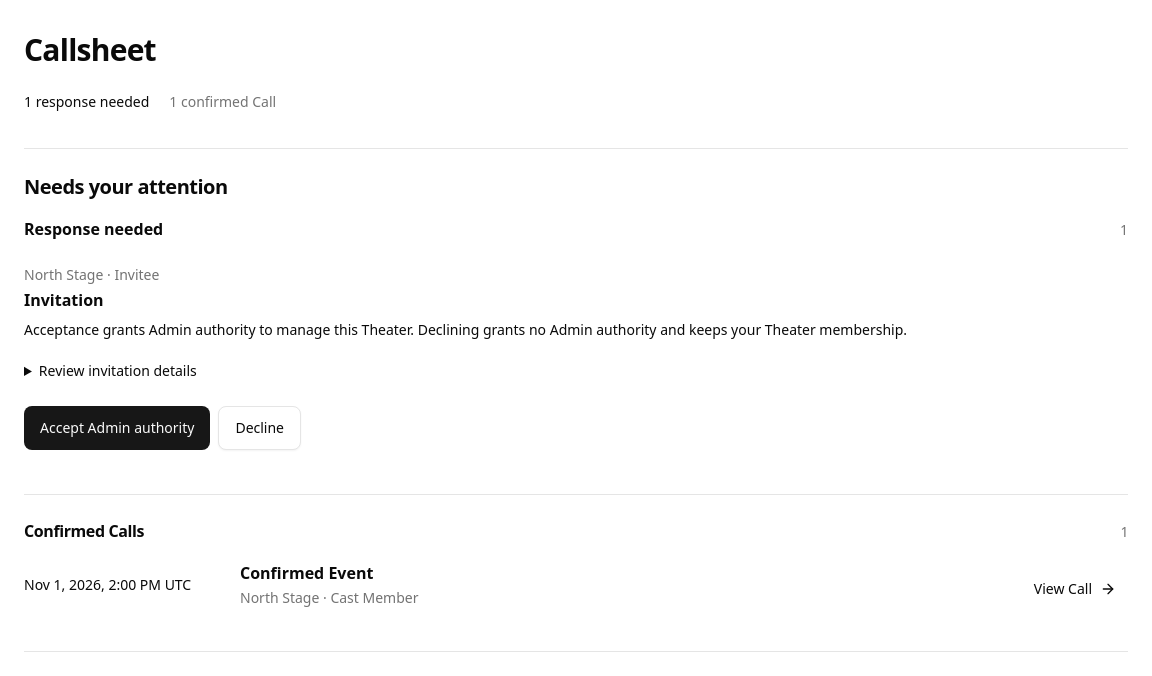
Test: keeps admin_invitation failures actionable, blocks duplicate responses, and clears only the resolved task
Click the button "Accept Admin authority" at {"x": 117, "y": 428}, box [24,406,210,450]
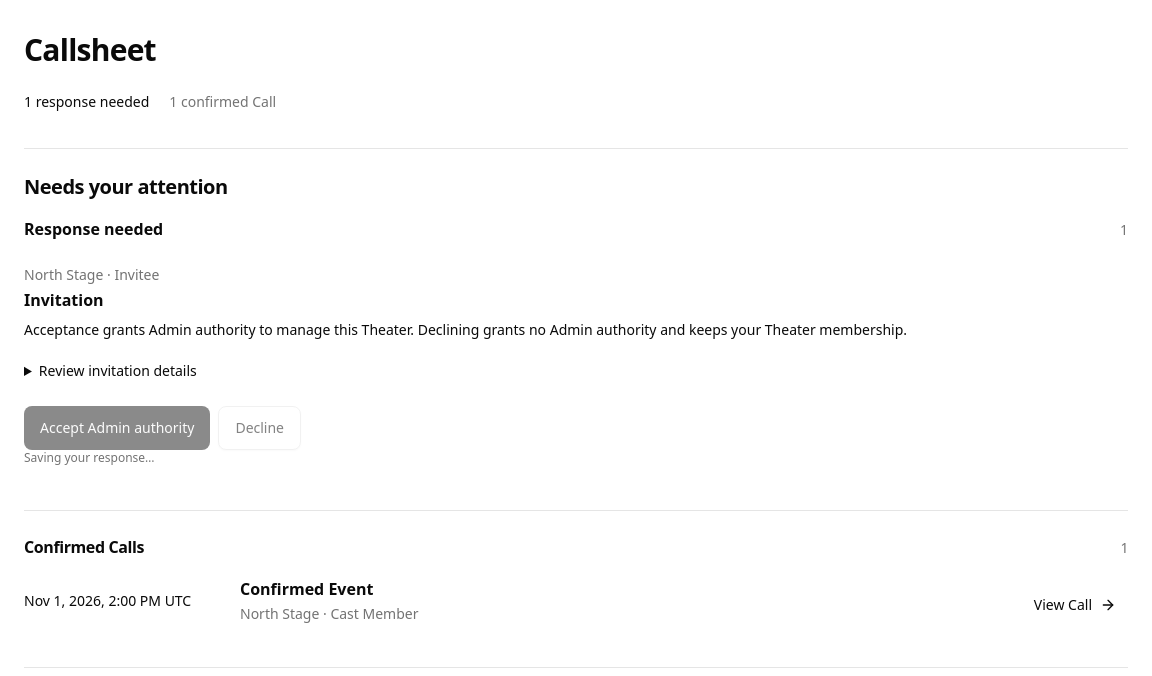
Result: the button "Accept Admin authority" is disabled
Result: the button "Decline" is disabled at [218,406,301,450]
Result: the message shows "Saving your response" at [24,449,155,466]
Click the button "Accept Admin authority" at {"x": 117, "y": 428}, box [24,406,210,450]
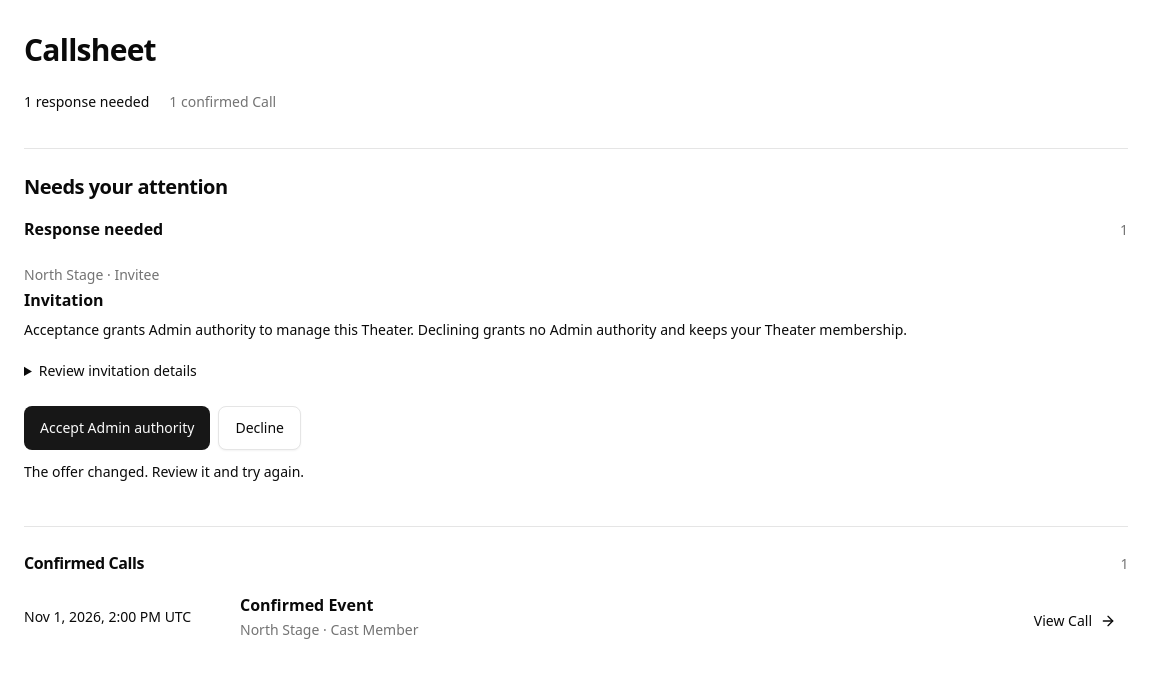
Result: the message shows "The offer changed" at [24,462,304,481]
Result: the button "Accept Admin authority" is enabled at [24,406,210,450]
Click the button "Decline" at {"x": 260, "y": 428}, box [218,406,301,450]
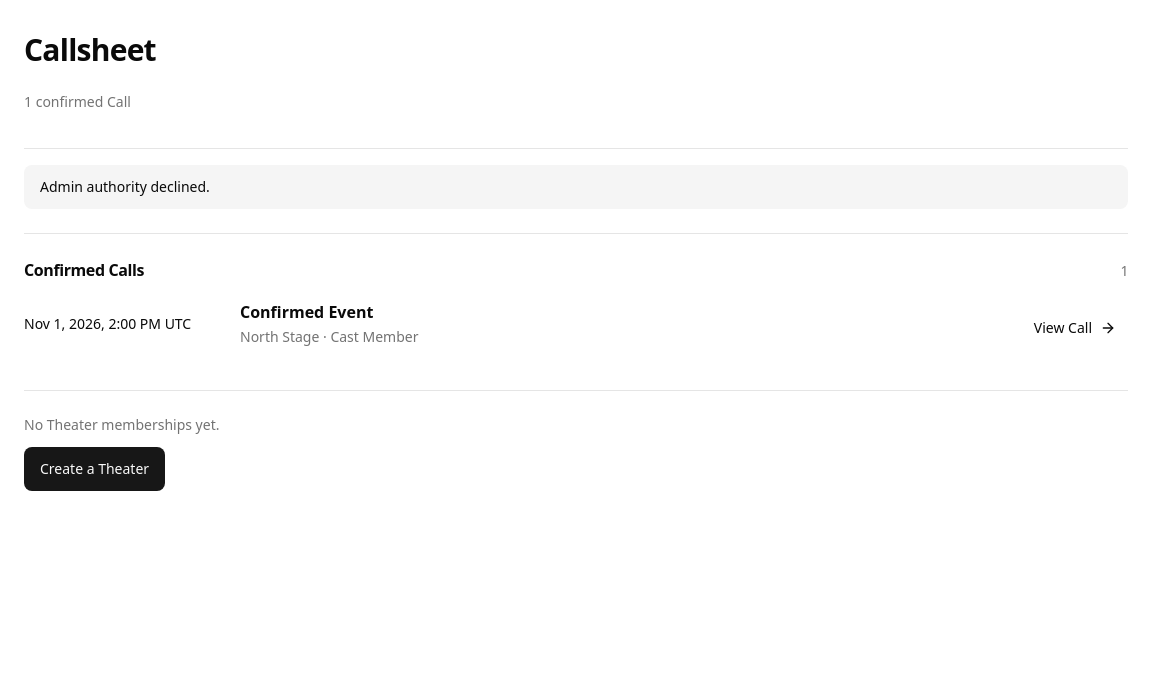
Expected: the heading "Confirmed Event" is shown, [240,301,373,323]
Result: the button "Accept Admin authority" is gone
